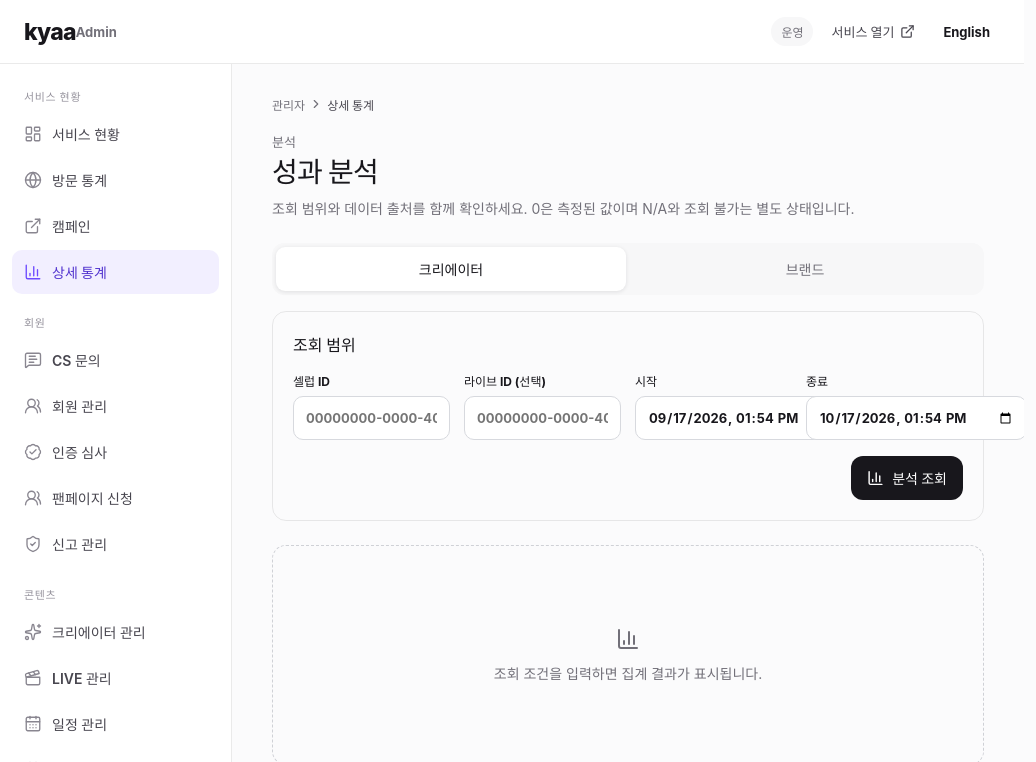
Test: Admin operations surfaces › invalidates an in-flight creator response when the view changes
Type "11111111-1111-4111-8111-111111111111" into the field labelled "셀럽 ID".
click(372, 418); type("11111111-1111-4111-8111-111111111111")  # box [293,396,450,440]
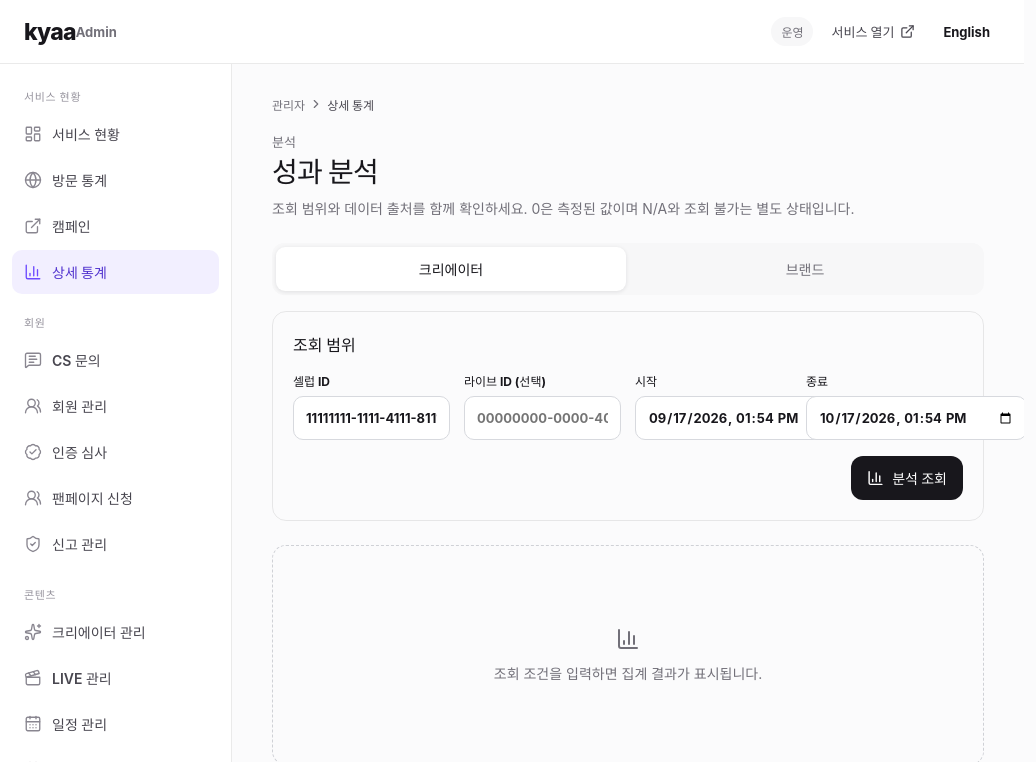
Click the button "분석 조회".
click(907, 478)  # box [851,456,963,500]
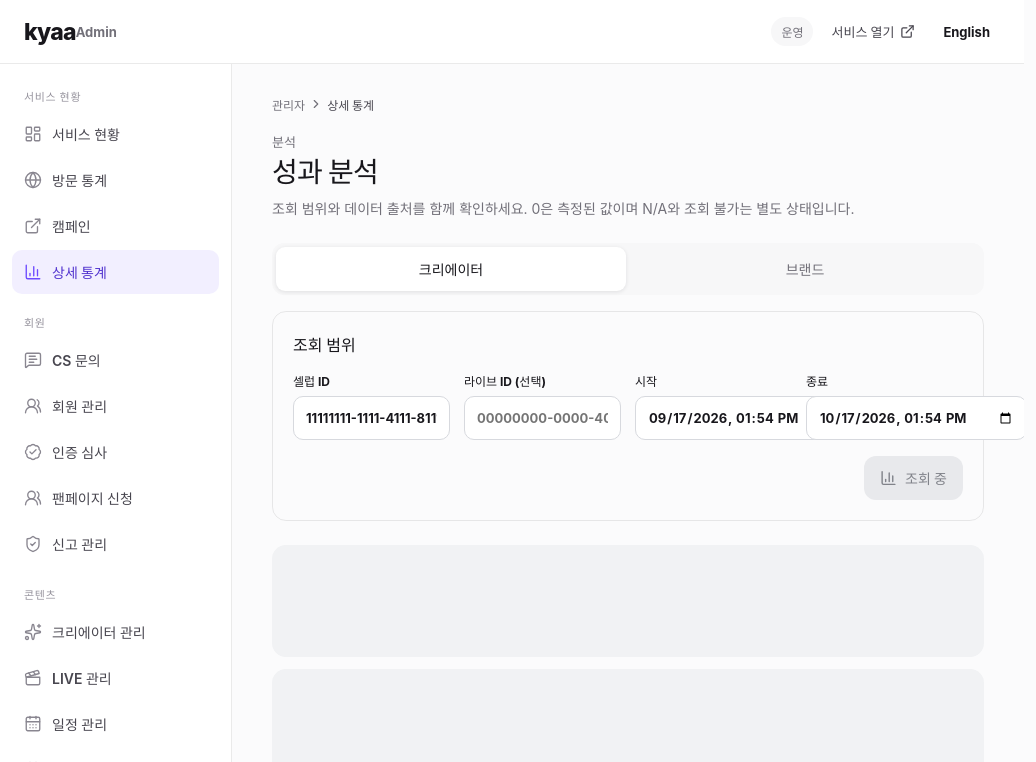
Click the tab "브랜드".
click(805, 269)  # box [630,247,980,291]
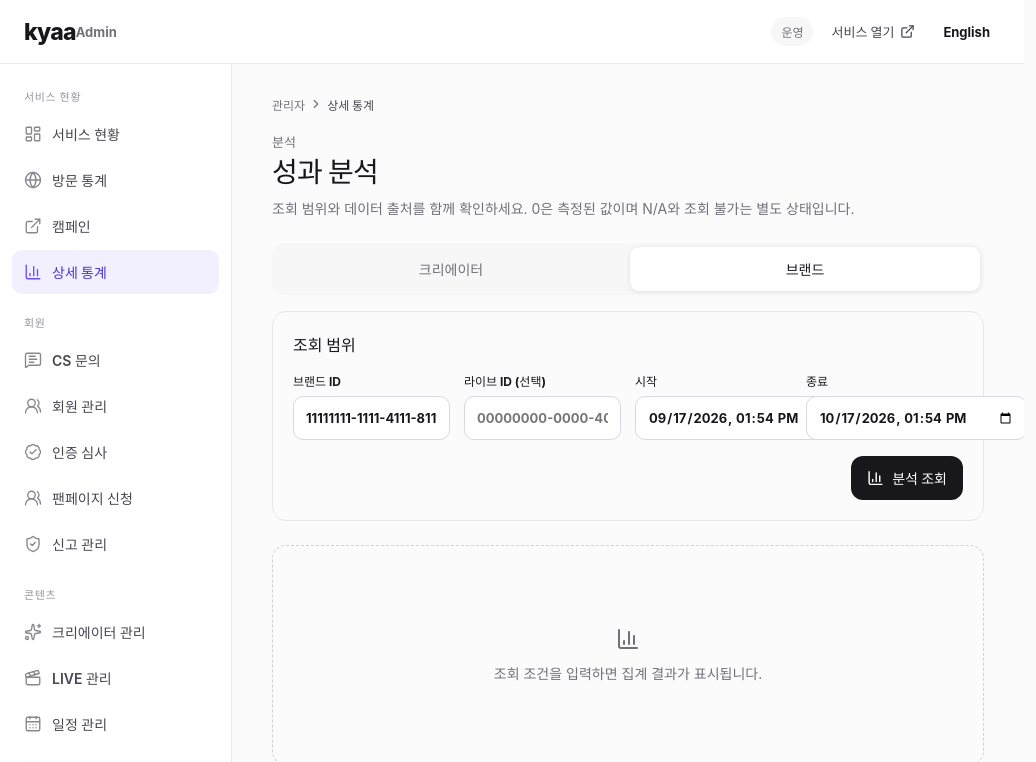
Check: the text "조회 조건을 입력하면 집계 결과가 표시됩니다." is shown, box [494,663,762,684]
